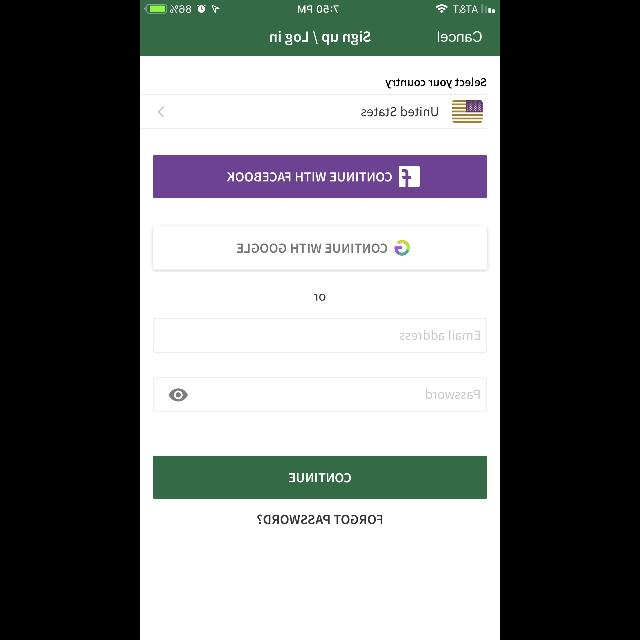icon: (168, 388, 188, 402), (158, 106, 165, 118)
image: (452, 100, 482, 124)
input: (154, 318, 486, 354), (154, 378, 486, 412)
text: (270, 30, 370, 46), (258, 515, 382, 525), (386, 78, 486, 89), (360, 106, 438, 118), (400, 330, 480, 340), (426, 389, 480, 399), (437, 32, 481, 42), (314, 294, 324, 300)
textbutton: (154, 456, 486, 499), (154, 227, 486, 270), (154, 156, 486, 198)
uppertaskbar: (140, 0, 500, 14)
